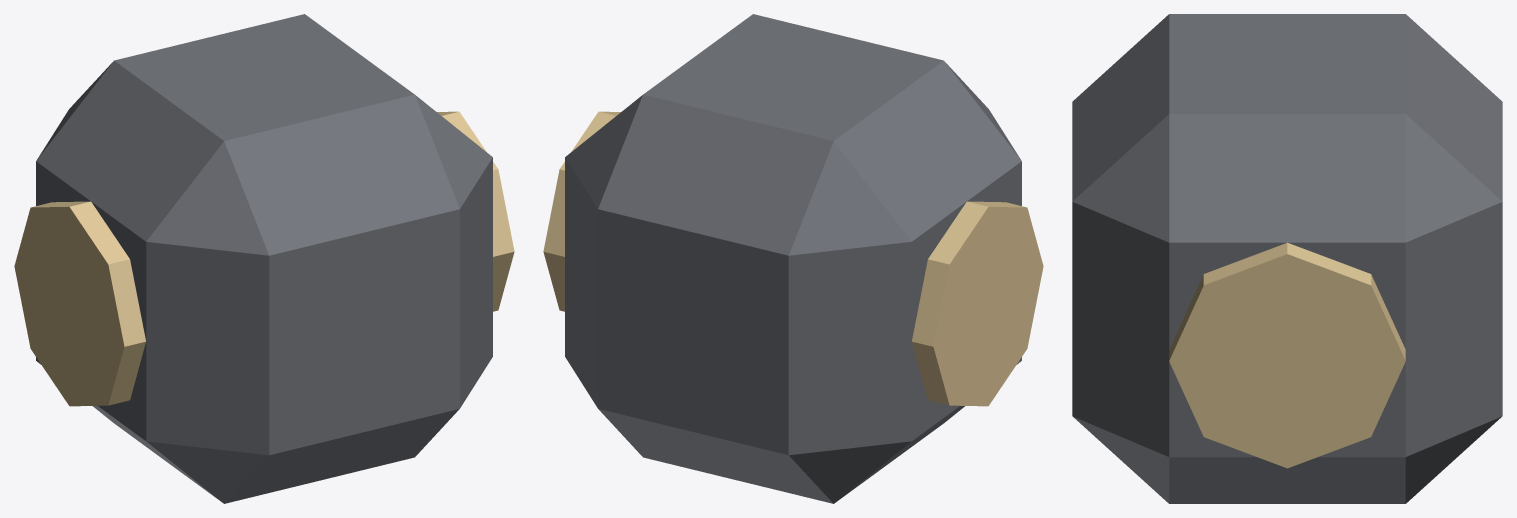
File: bastion.knuckle.glb
The picture shows the model from 3 angles, left to right: view 1: azimuth 30°, elevation 25°; view 2: azimuth 150°, elevation 25°; view 3: azimuth 270°, elevation 25°; orthographic projection. The views are drawn at different scales.
Bounding box in the file's own units: 0.9 × 0.8 × 0.8.
